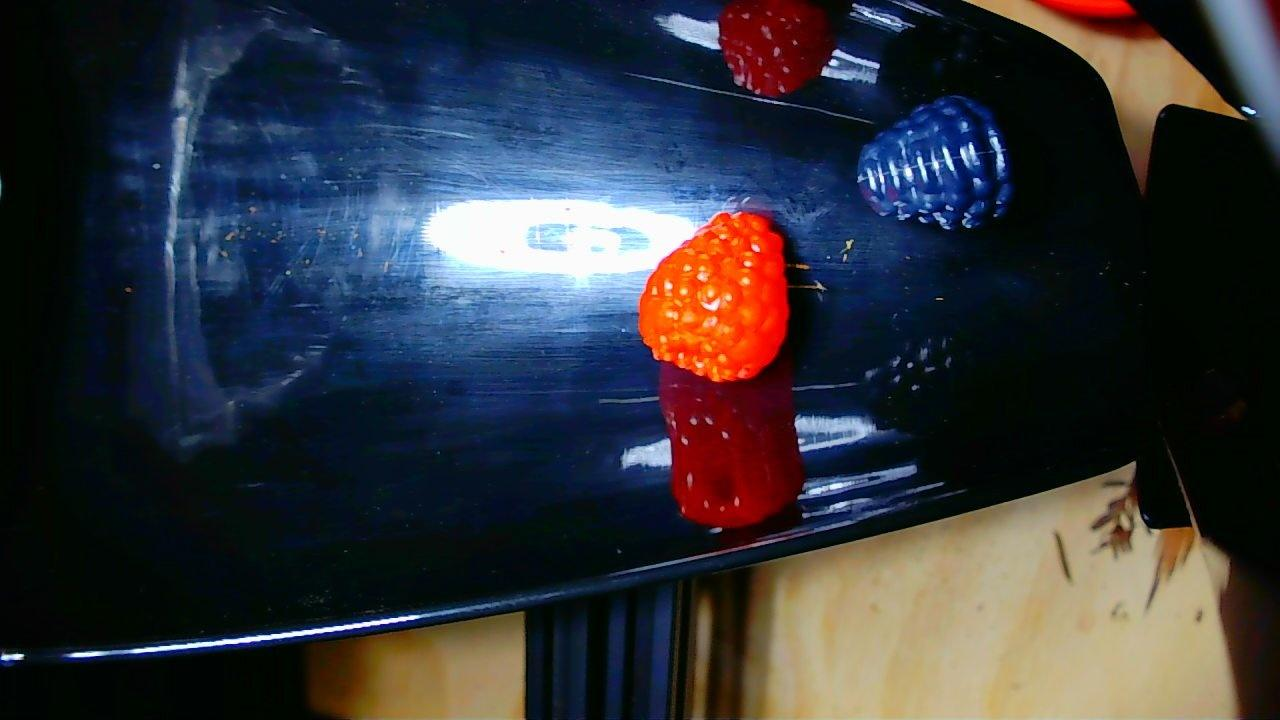berry: (640, 212, 788, 382), (857, 96, 1013, 229)
